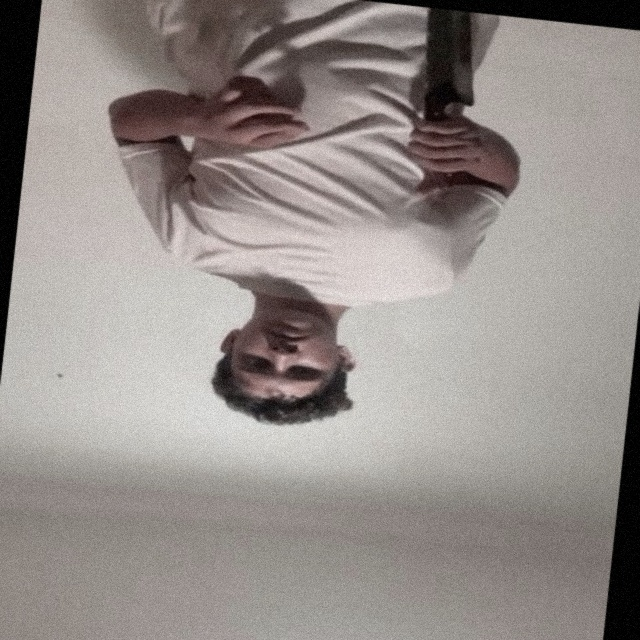Sharp-Object: (414, 7, 487, 112)
